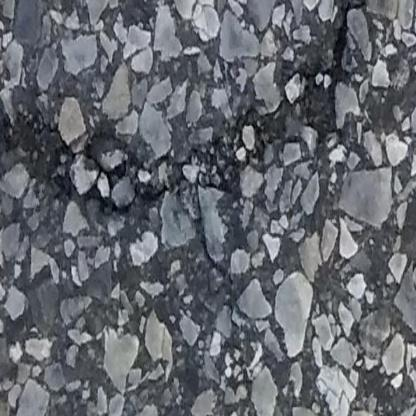Cracks: (0, 0, 411, 226)
